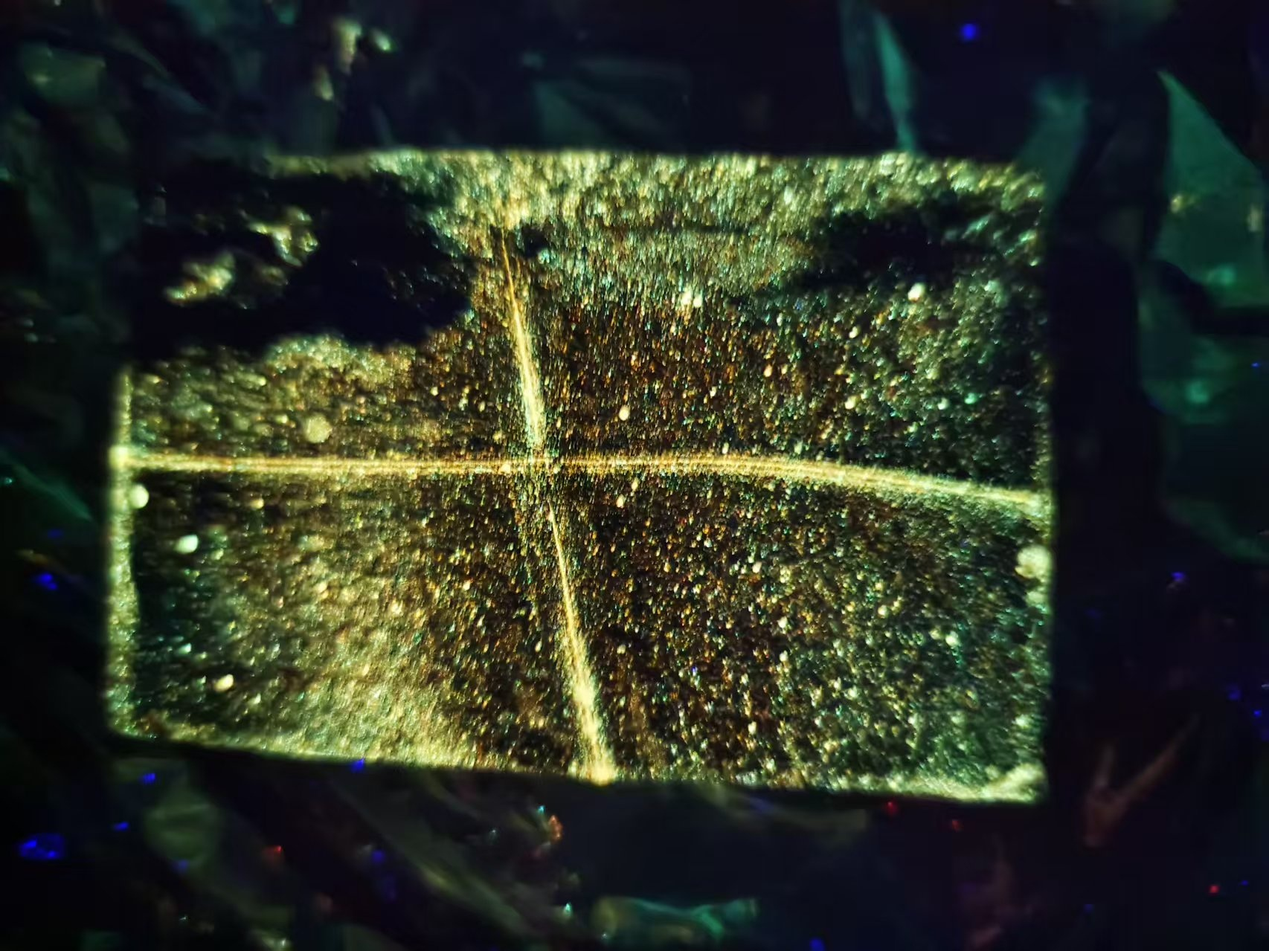Fissure: (88, 420, 1070, 541), (471, 228, 645, 786)
